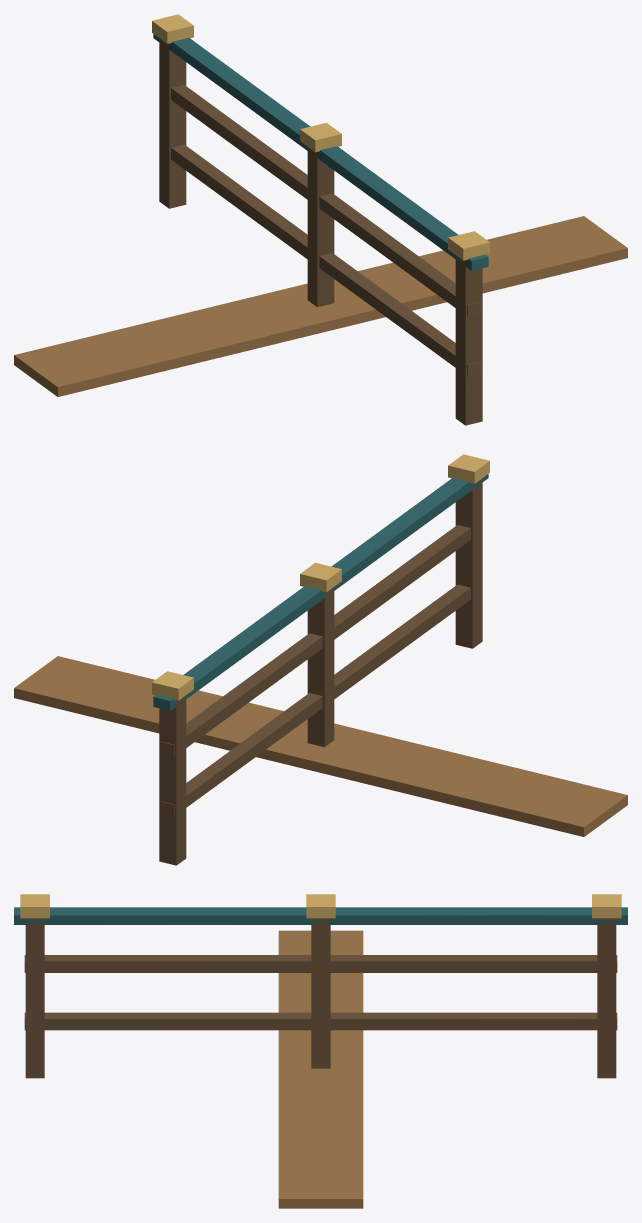
File: Wooden-fences.glb
3 views of the same model, one above another, from view 1: azimuth 30°, elevation 25°; view 2: azimuth 150°, elevation 25°; view 3: azimuth 270°, elevation 25° (orthographic). The views are drawn at different scales.
Visible parts, largest first — view 1: wooden-fence-static-fence-earth, wooden-fence-static-fence-timber, wooden-fence-static-fence-teal, wooden-fence-static-fence-cap; view 2: wooden-fence-static-fence-earth, wooden-fence-static-fence-timber, wooden-fence-static-fence-teal, wooden-fence-static-fence-cap; view 3: wooden-fence-static-fence-timber, wooden-fence-static-fence-earth, wooden-fence-static-fence-teal, wooden-fence-static-fence-cap.
Part boxes in pixels (left/top/right/bottom): wooden-fence-static-fence-earth: left=14, top=216, right=627, bottom=396; wooden-fence-static-fence-timber: left=159, top=38, right=482, bottom=425; wooden-fence-static-fence-teal: left=153, top=34, right=488, bottom=270; wooden-fence-static-fence-cap: left=152, top=14, right=489, bottom=260; wooden-fence-static-fence-earth: left=14, top=656, right=627, bottom=836; wooden-fence-static-fence-timber: left=159, top=478, right=482, bottom=865; wooden-fence-static-fence-teal: left=153, top=474, right=488, bottom=710; wooden-fence-static-fence-cap: left=152, top=454, right=489, bottom=700; wooden-fence-static-fence-timber: left=24, top=918, right=617, bottom=1078; wooden-fence-static-fence-earth: left=278, top=930, right=363, bottom=1208; wooden-fence-static-fence-teal: left=14, top=907, right=627, bottom=924; wooden-fence-static-fence-cap: left=20, top=894, right=621, bottom=918.
Bounding box in the file's own units: 6 × 1.81 × 5.8.
